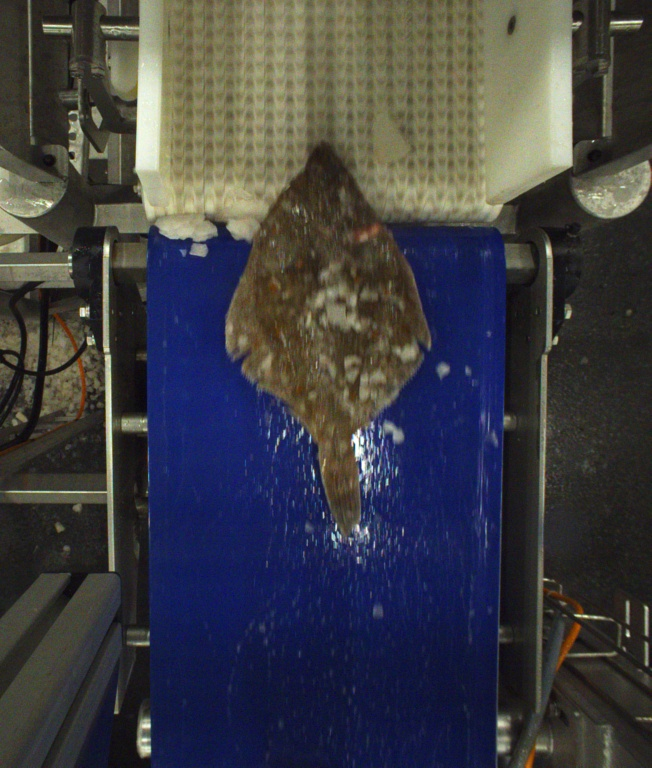PLE: (223, 140, 434, 538)
